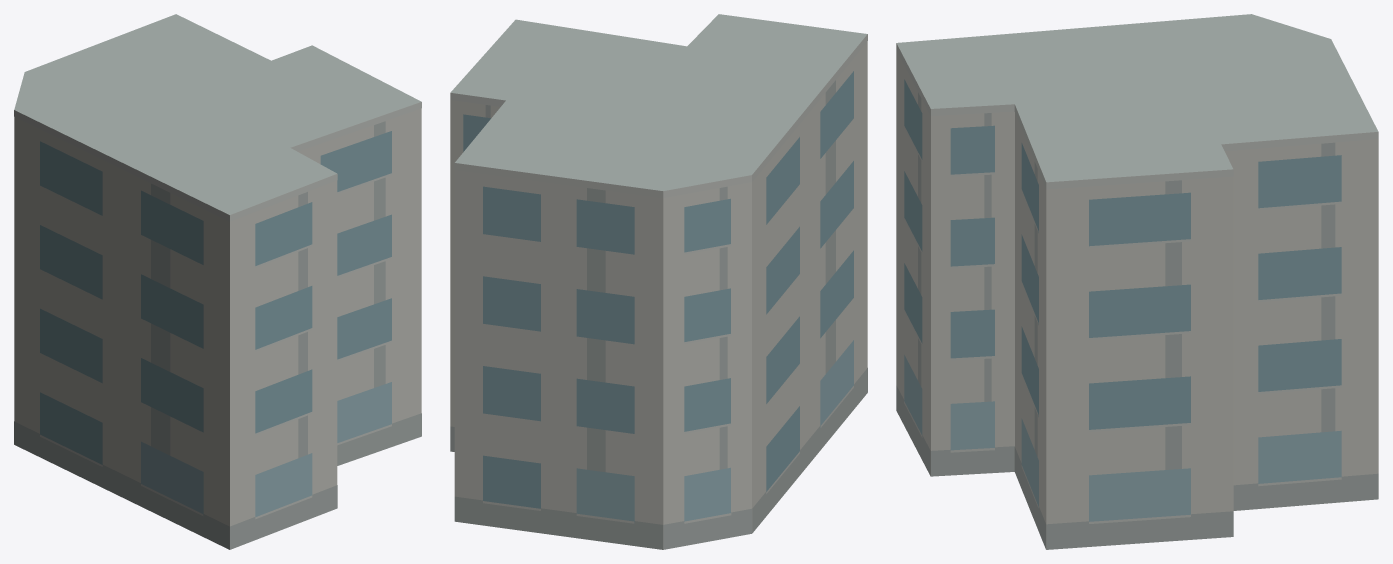
Rendered from residential-318300dc-8db8-4bf6-8f11-06600148a132.glb.
The picture shows the model from 3 angles, left to right: view 1: azimuth 30°, elevation 25°; view 2: azimuth 150°, elevation 25°; view 3: azimuth 270°, elevation 25°; orthographic projection. The views are drawn at different scales.
Visible parts, largest first — view 1: residential-318300dc-8db8-4bf6-8f11-06600148a132.tmp; view 2: residential-318300dc-8db8-4bf6-8f11-06600148a132.tmp; view 3: residential-318300dc-8db8-4bf6-8f11-06600148a132.tmp.
Boxes of the visible parts, x1,y1,x2,y2 form: residential-318300dc-8db8-4bf6-8f11-06600148a132.tmp: [14, 14, 421, 549]; residential-318300dc-8db8-4bf6-8f11-06600148a132.tmp: [450, 14, 867, 549]; residential-318300dc-8db8-4bf6-8f11-06600148a132.tmp: [896, 14, 1378, 549].
Size of the model in its own units: 11.99 by 12.2 by 14.52.
